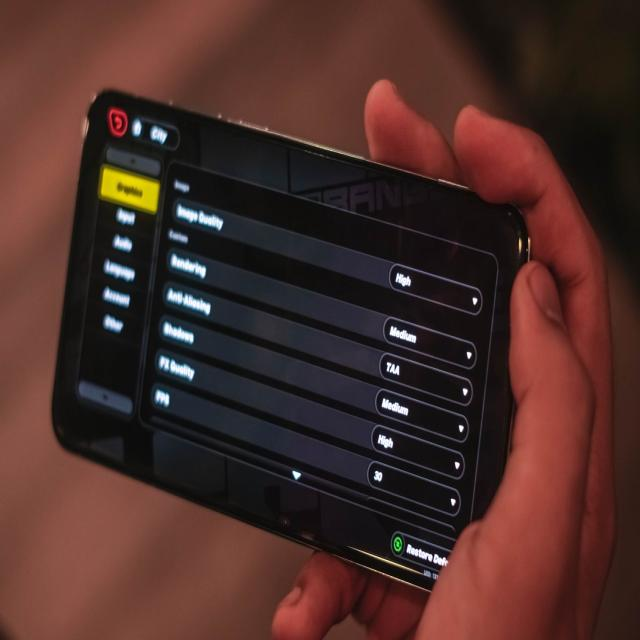mobile_phone: (45, 58, 527, 594)
